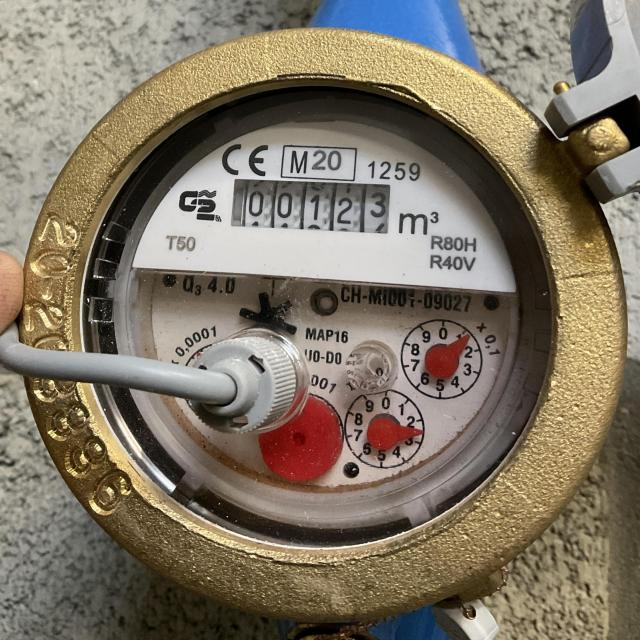gaz_meter: (107, 115, 522, 531)
indication: (230, 174, 391, 236)
